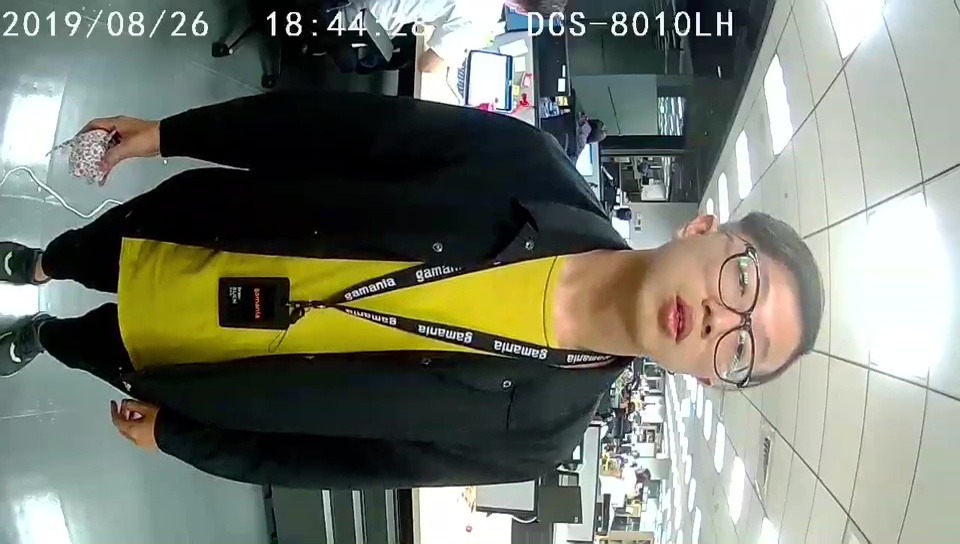pig: (67, 125, 117, 184)
